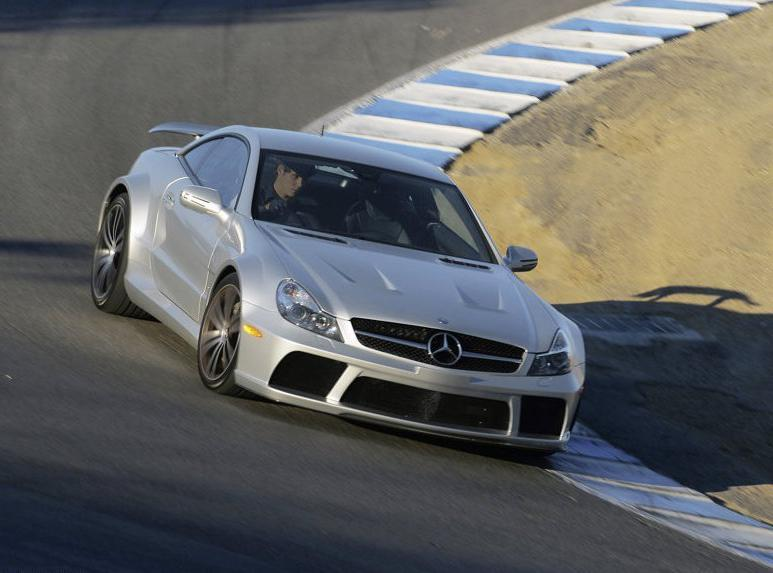Car: (50, 85, 609, 459)
